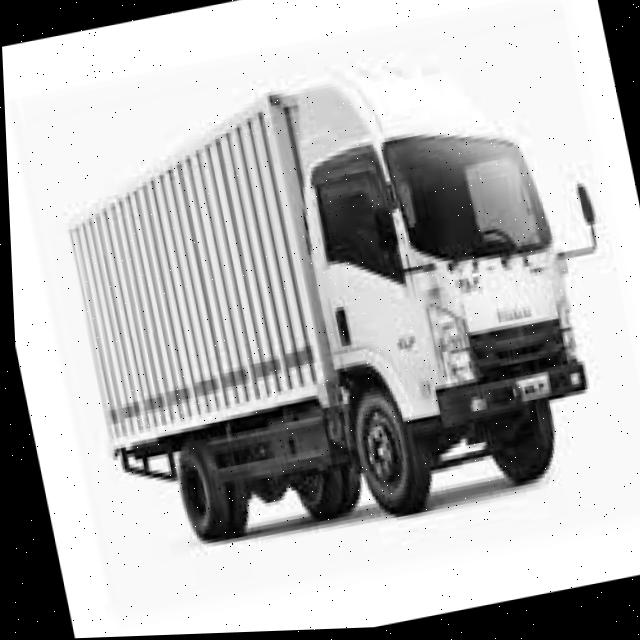truck: (256, 24, 640, 541)
